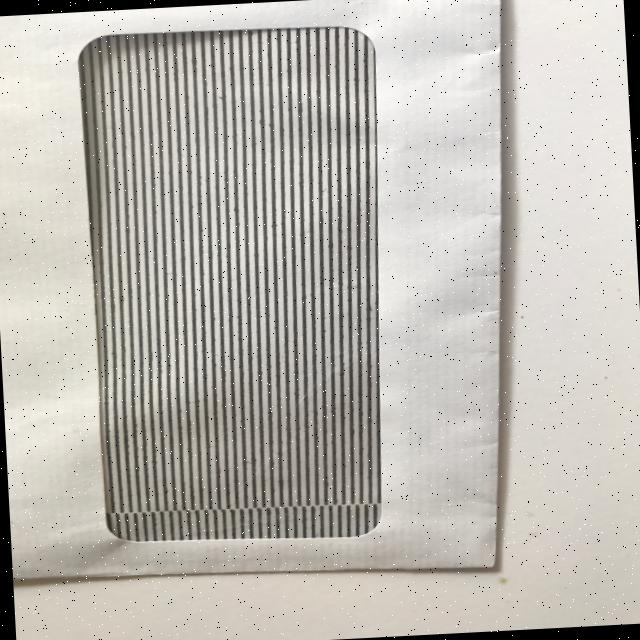paper: (0, 0, 530, 593)
